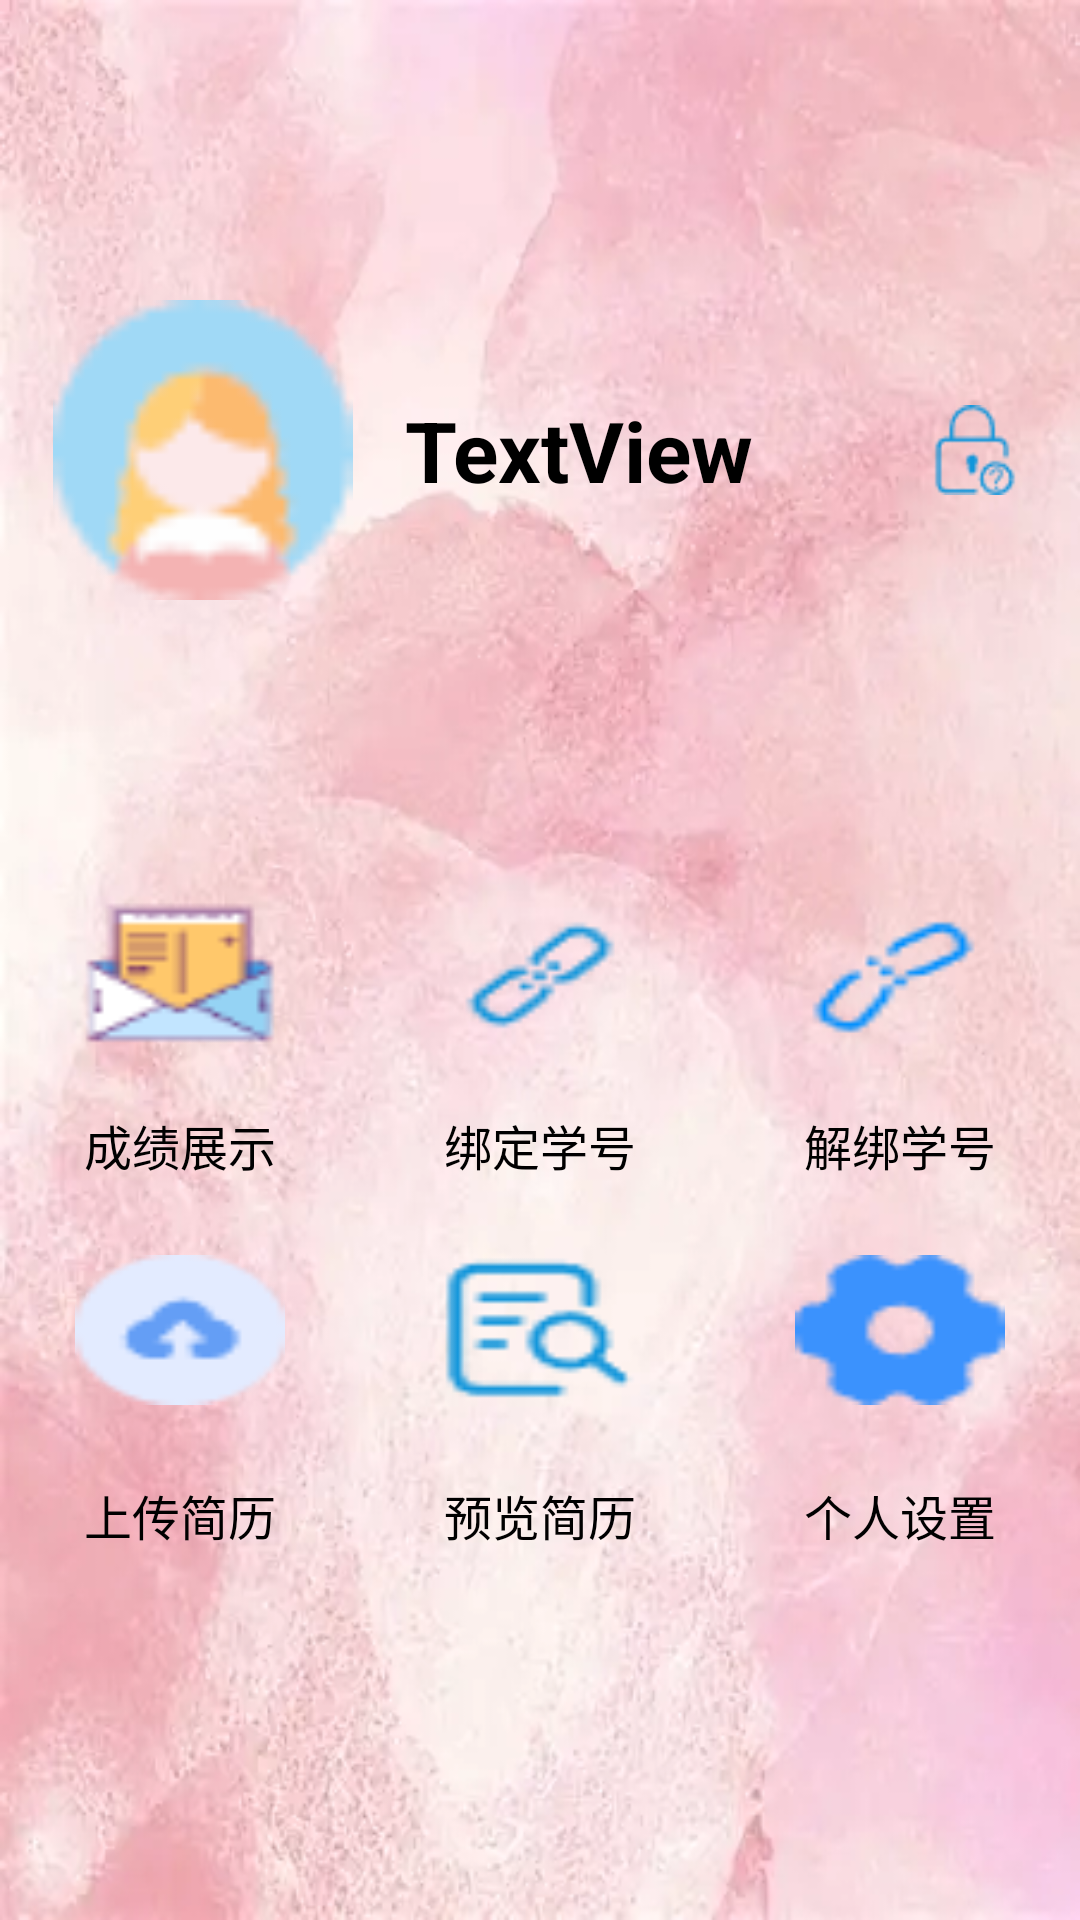

Screen size 1080px×1920px. Icon name, then its box in pixels as (x1, y1, x2, y2):
bangding: (466, 902, 645, 1028)
forget: (935, 405, 1015, 495)
jiebang: (813, 922, 974, 1033)
touxiang: (53, 300, 375, 600)
yulan: (446, 1261, 629, 1397)
